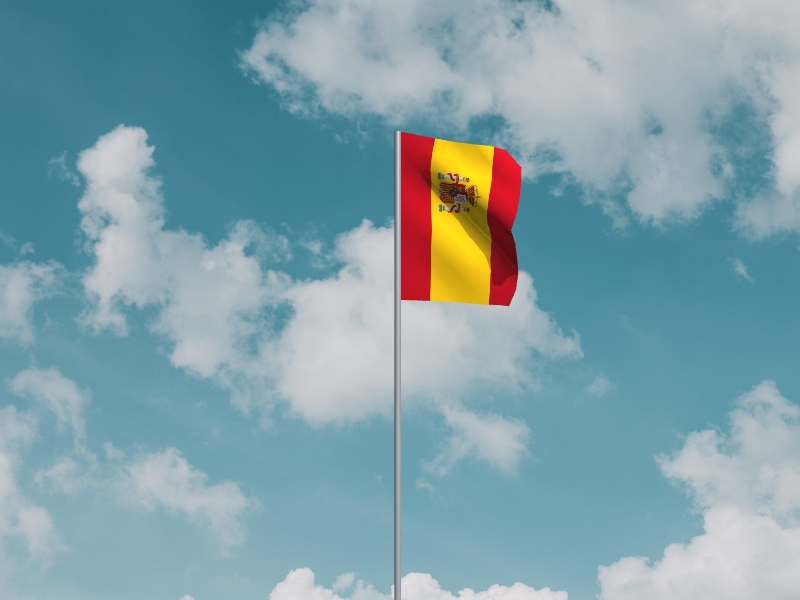es: (402, 133, 523, 308)
